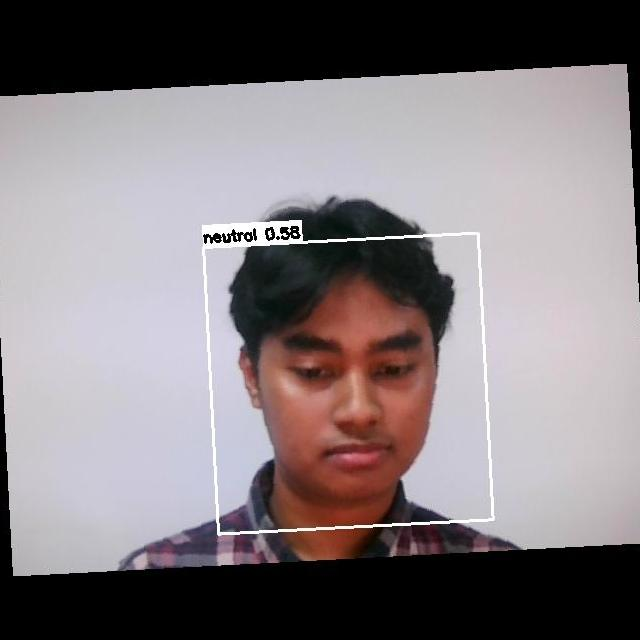Natural: (275, 328, 442, 480)
